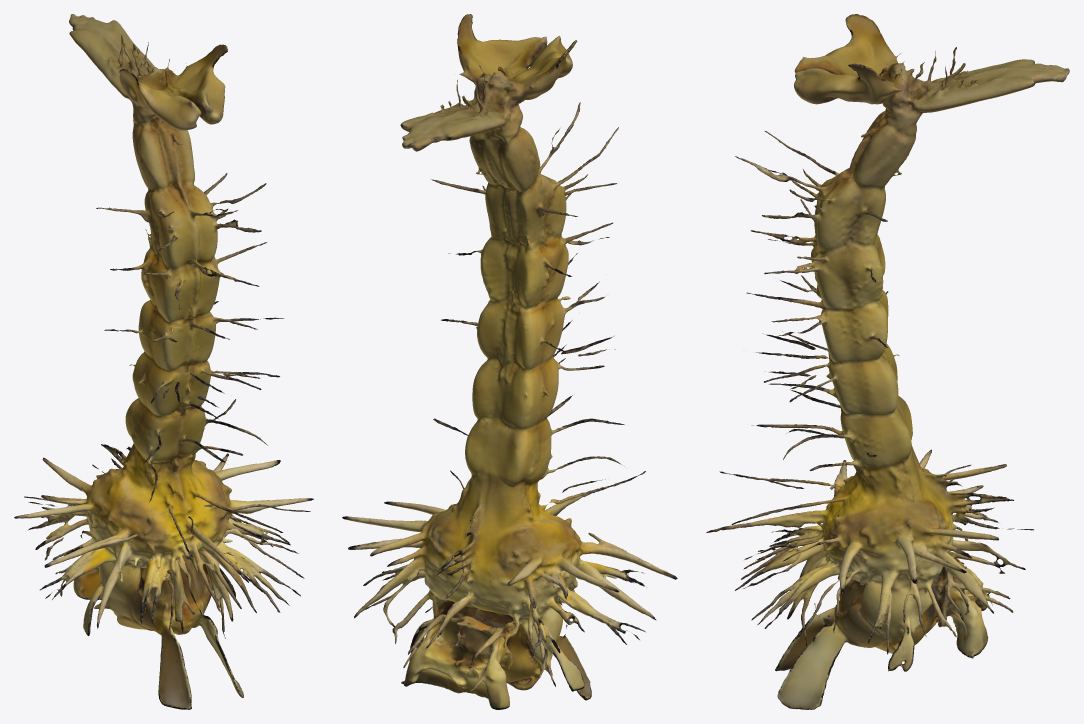
Rendered from Meshy_AI_Mayfly_nymph_0425084501_texture.fbx.
3 views of the same model, side by side, from view 1: azimuth 30°, elevation 25°; view 2: azimuth 150°, elevation 25°; view 3: azimuth 270°, elevation 25° (orthographic). The views are drawn at different scales.
Parts seen in each view (by area): view 1: Mesh_0; view 2: Mesh_0; view 3: Mesh_0.
Boxes of the visible parts, x1=… form: Mesh_0: x1=14, y1=14, x2=313, y2=709; Mesh_0: x1=342, y1=14, x2=677, y2=709; Mesh_0: x1=706, y1=14, x2=1069, y2=709.
Size of the model in its own units: 90.78 by 200 by 101.
1 material, 1 textured.
